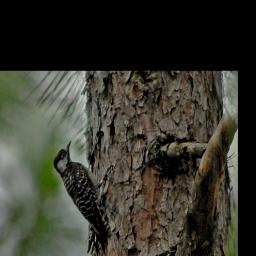Woodpecker: (53, 136, 111, 249)
